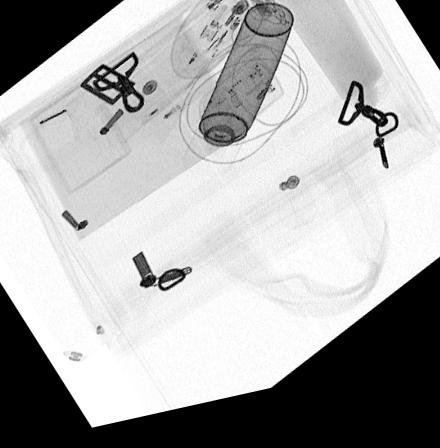Sprayer: (179, 11, 295, 187)
